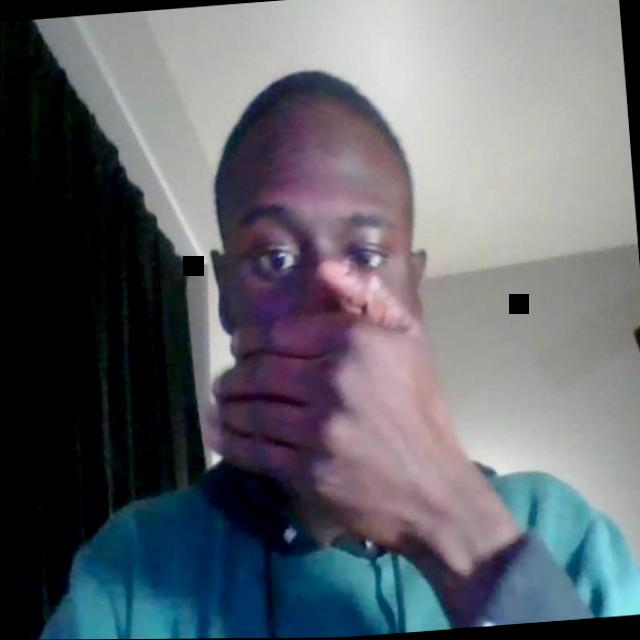NO-Mask: (213, 165, 425, 380)
